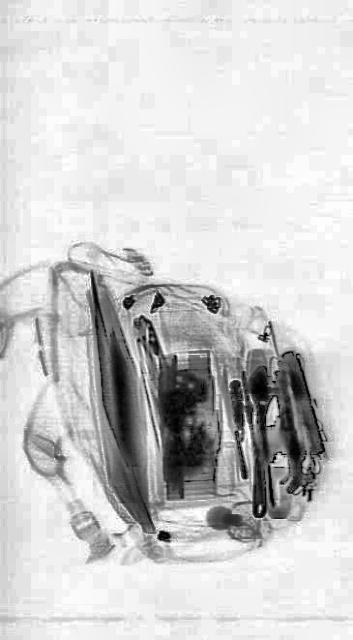Wrench: (245, 364, 275, 518)
